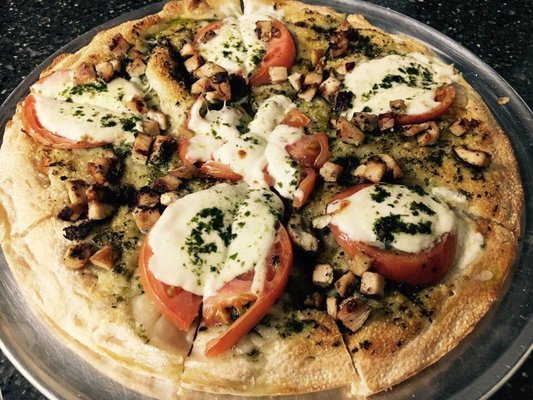sandwich: (1, 1, 526, 399)
